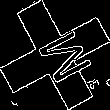M_SW: (22, 23, 88, 87)
